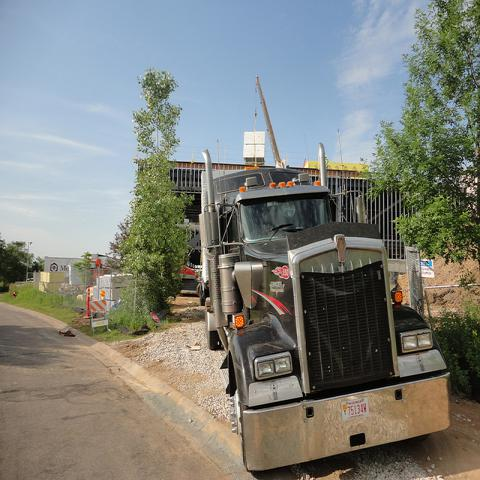car: (180, 264, 196, 280)
truck: (198, 142, 454, 470), (44, 257, 97, 287)
